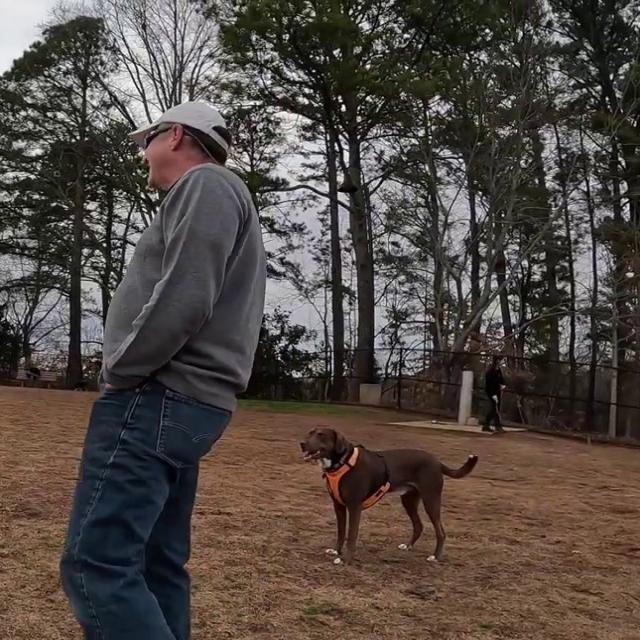Unleashed_Dog: (124, 376, 478, 563)
